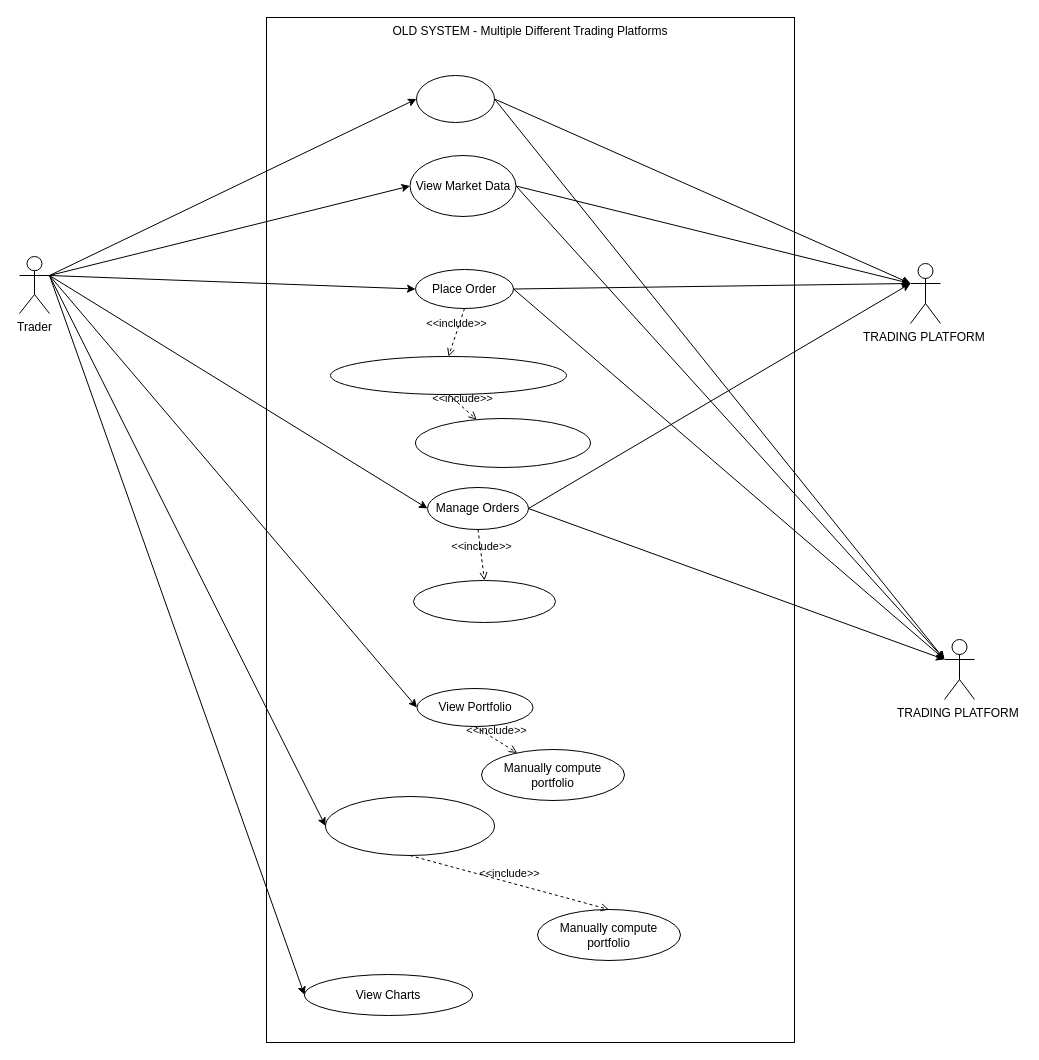
Image size: 1039x1060. Some labels were removed from this diagram. The shapes that lost their labels are listed below. From the top down, each one's box as (x1, y1, x2, y2) in pixels, then its label:
(416, 74, 494, 122): Login
(330, 356, 566, 394): Manually compute trade parametres
(414, 418, 590, 468): Read Balances from differerent platforms
(412, 580, 556, 622): Verify Order Status
(324, 796, 494, 856): View Transaction History
